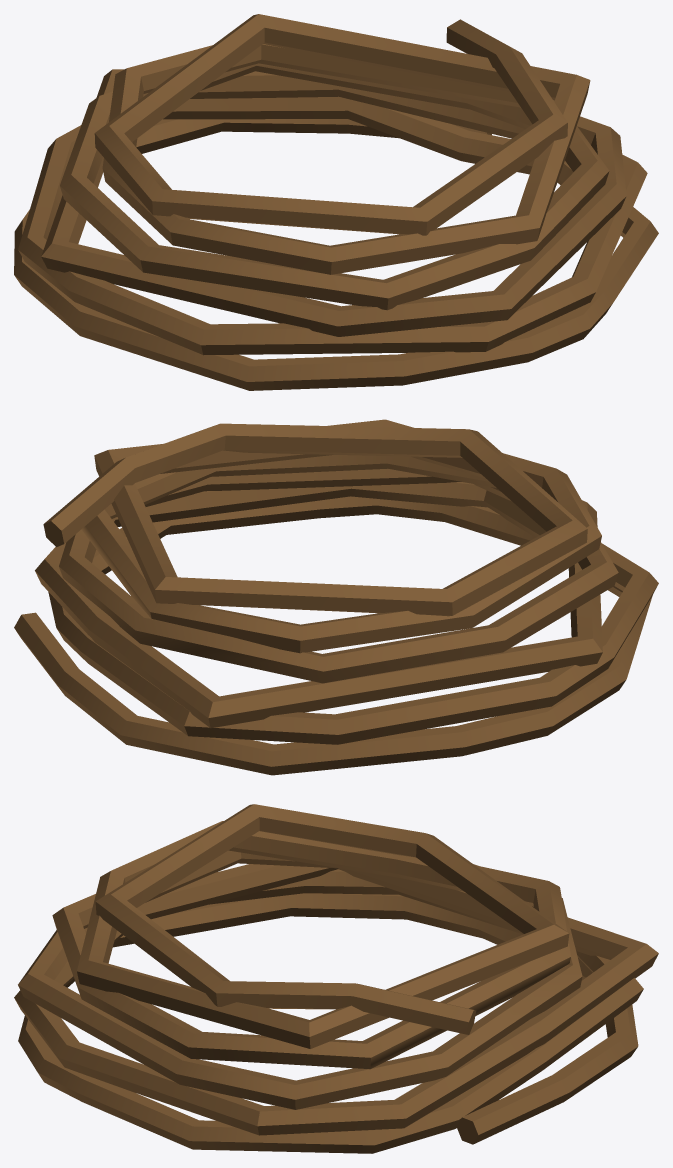
The model's file is RopeCoil.fbx.
3 views of the same model, one above another, from view 1: azimuth 30°, elevation 25°; view 2: azimuth 150°, elevation 25°; view 3: azimuth 270°, elevation 25° (orthographic). The views are drawn at different scales.
Parts seen in each view (by area): view 1: Rope Coil; view 2: Rope Coil; view 3: Rope Coil.
Part boxes in pixels (box(x1,y1,x2,y2)): Rope Coil: box(14, 14, 658, 390); Rope Coil: box(14, 419, 658, 775); Rope Coil: box(14, 804, 658, 1153).
Size of the model in its own units: 169 by 43.04 by 178.
